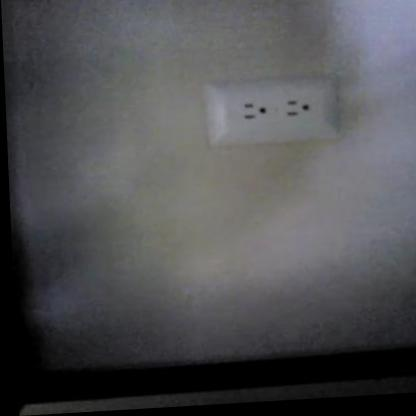OUTLET: (201, 75, 341, 147)
